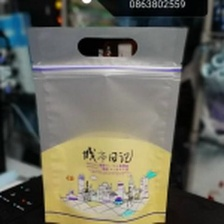snack: (19, 19, 195, 224)
